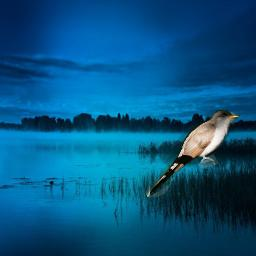Cuckoo: (146, 110, 241, 197)
